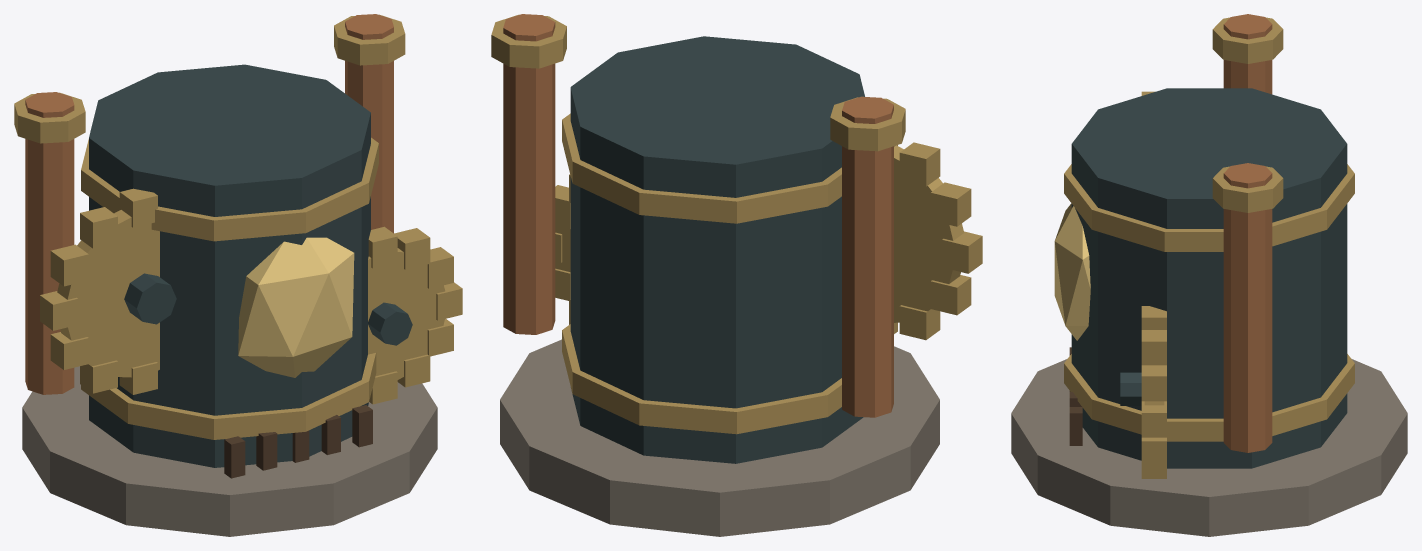
Rendered from works_heart.glb.
3 renders of one model, left to right at view 1: azimuth 30°, elevation 25°; view 2: azimuth 150°, elevation 25°; view 3: azimuth 270°, elevation 25°, orthographic. The views are drawn at different scales.
Visible parts, largest first — view 1: casing, plinth, heart_core, exhaust, heart_gear, brass_band2, brass_band, exhaust.001, heart_gear2, collar, collar.001, heart_gear_hub (+20 smaller); view 2: casing, plinth, exhaust.001, exhaust, brass_band, brass_band2, heart_gear, collar.001, collar, heart_gear_tooth.005, heart_gear_tooth.004, heart_gear_tooth.006 (+3 smaller); view 3: casing, plinth, exhaust.001, brass_band, brass_band2, heart_core, exhaust, collar, collar.001, heart_gear2_tooth.001, heart_gear2_tooth.002, heart_gear2_tooth (+4 smaller).
Boxes of the visible parts, left/top/right/bottom form: casing: left=89, top=64, right=370, bottom=467; plinth: left=22, top=366, right=437, bottom=536; heart_core: left=238, top=237, right=354, bottom=377; exhaust: left=25, top=92, right=74, bottom=394; heart_gear: left=57, top=210, right=159, bottom=377; brass_band2: left=81, top=353, right=376, bottom=439; brass_band: left=81, top=137, right=378, bottom=241; exhaust.001: left=345, top=14, right=393, bottom=233; heart_gear2: left=368, top=248, right=445, bottom=379; collar: left=14, top=92, right=85, bottom=143; collar.001: left=334, top=14, right=405, bottom=65; heart_gear_hub: left=124, top=273, right=176, bottom=324; casing: left=570, top=36, right=864, bottom=463; plinth: left=500, top=339, right=939, bottom=536; exhaust.001: left=503, top=14, right=555, bottom=334; exhaust: left=842, top=96, right=893, bottom=417; brass_band: left=562, top=113, right=841, bottom=223; brass_band2: left=562, top=324, right=841, bottom=434; heart_gear: left=894, top=145, right=964, bottom=322; collar.001: left=491, top=14, right=566, bottom=68; collar: left=830, top=97, right=905, bottom=151; heart_gear_tooth.005: left=930, top=182, right=971, bottom=226; heart_gear_tooth.004: left=899, top=142, right=940, bottom=186; heart_gear_tooth.006: left=942, top=231, right=982, bottom=273; casing: left=1071, top=88, right=1347, bottom=468; plinth: left=1011, top=359, right=1407, bottom=536; exhaust.001: left=1223, top=163, right=1272, bottom=452; brass_band: left=1064, top=164, right=1354, bottom=251; brass_band2: left=1064, top=354, right=1354, bottom=441; heart_core: left=1054, top=203, right=1090, bottom=340; exhaust: left=1223, top=14, right=1272, bottom=94; collar: left=1212, top=17, right=1283, bottom=63; collar.001: left=1212, top=166, right=1283, bottom=212; heart_gear2_tooth.001: left=1141, top=365, right=1166, bottom=401; heart_gear2_tooth.002: left=1141, top=330, right=1166, bottom=365; heart_gear2_tooth: left=1141, top=401, right=1166, bottom=437.
Size of the model in its own units: 4.1 by 3.55 by 3.6.
